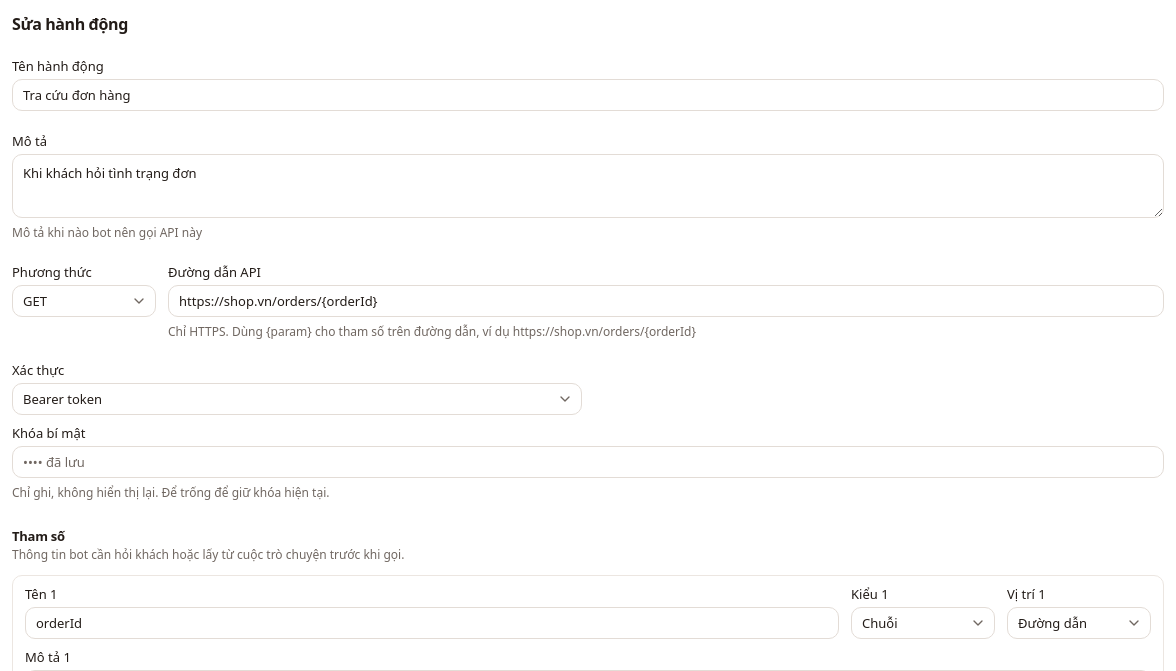
Test case: ActionFormView › secret is write-only › keeps the form pre-filled from the stored action and hides the secret for "none"
Expected: the field labelled "Tên hành động" holds "Tra cứu đơn hàng", [12, 79, 1164, 111]
Expected: the field labelled "Tên 1" holds "orderId", [25, 607, 839, 639]
Click the dropdown named "Xác thực" at [63, 399], box [12, 383, 582, 415]
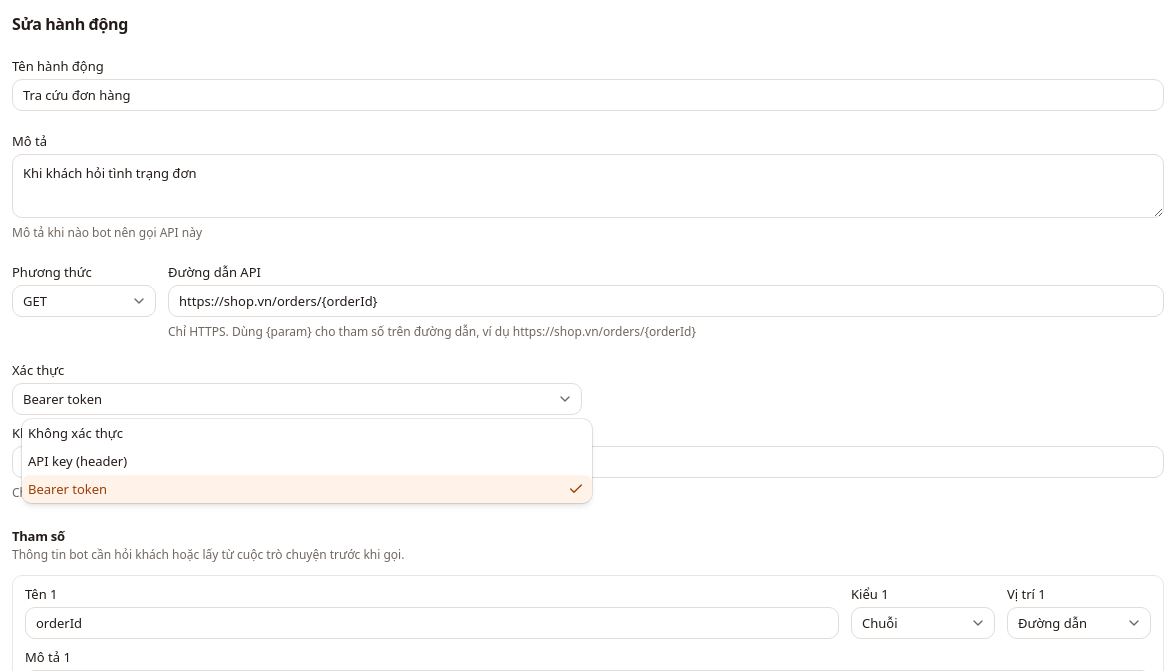
Click the option "Không xác thực" at [75, 433], box [28, 424, 123, 442]
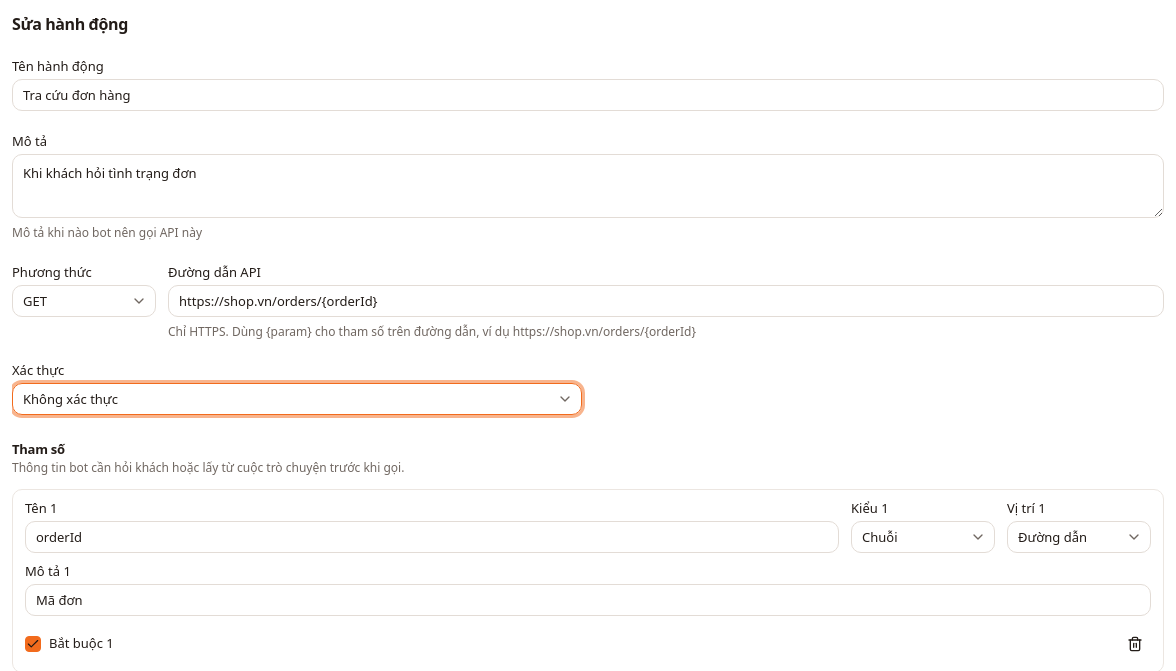
Expected: the label labelled "Khóa bí mật" is gone
